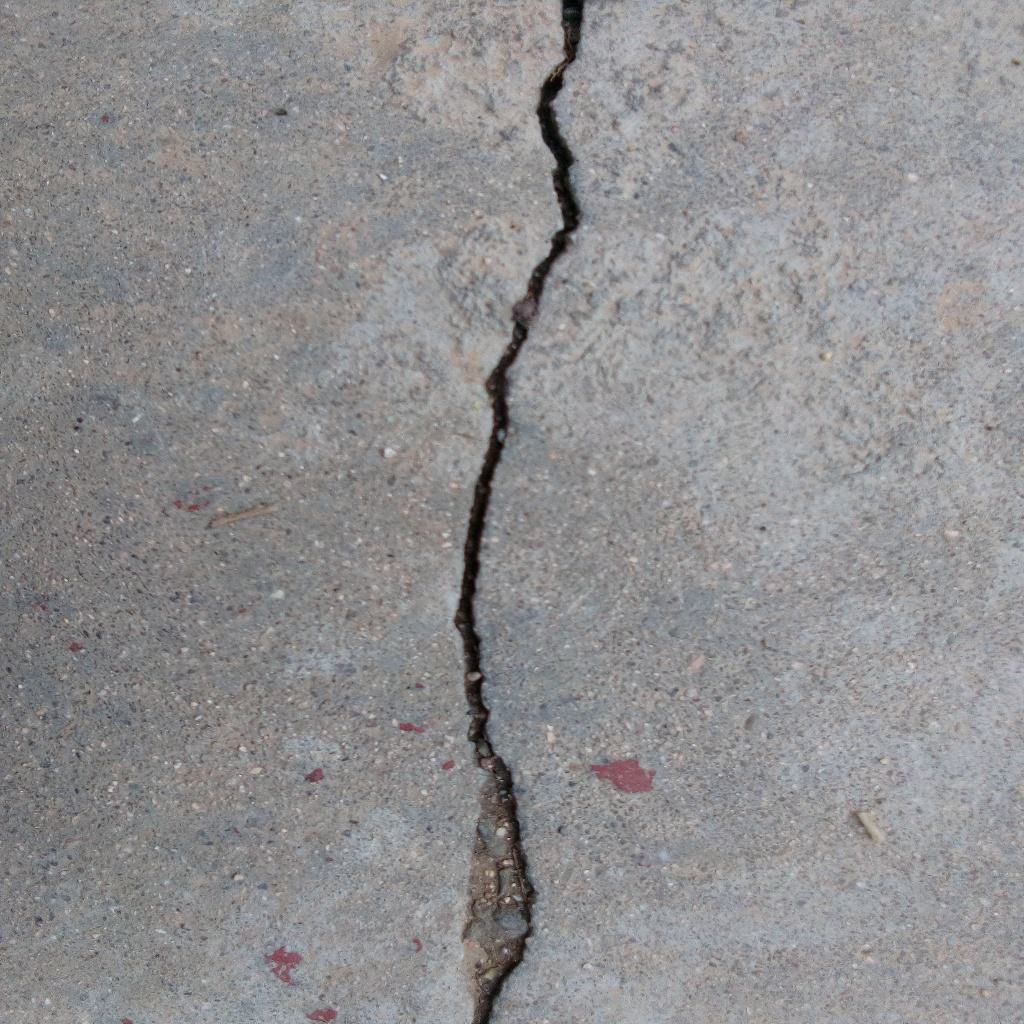Crack: (450, 1, 585, 1024)
